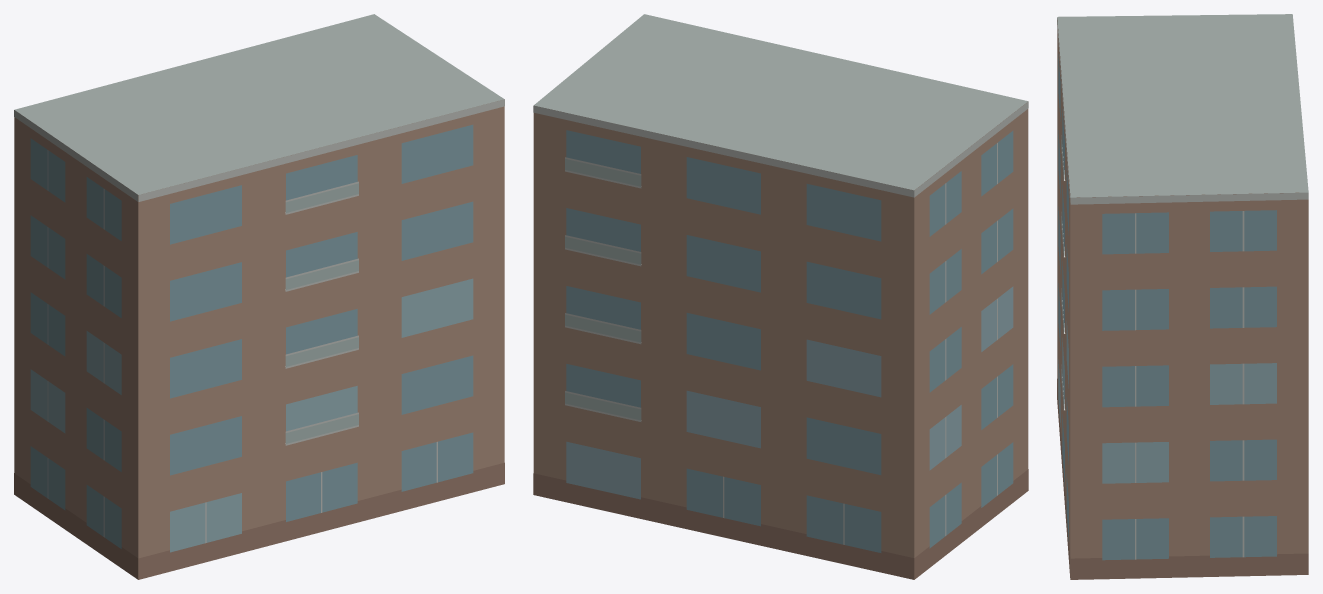
The model's file is survey-upis-32893398.glb.
3 views of the same model, side by side, from view 1: azimuth 30°, elevation 25°; view 2: azimuth 150°, elevation 25°; view 3: azimuth 270°, elevation 25° (orthographic).
Parts seen in each view (by area): view 1: survey-upis-32893398.tmp; view 2: survey-upis-32893398.tmp; view 3: survey-upis-32893398.tmp.
Boxes of the visible parts, box(x1,y1,x2,y2) form: survey-upis-32893398.tmp: box(14, 14, 504, 579); survey-upis-32893398.tmp: box(533, 14, 1028, 579); survey-upis-32893398.tmp: box(1057, 14, 1308, 579).
Bounding box in the file's own units: 13.6 × 13.2 × 7.88.
